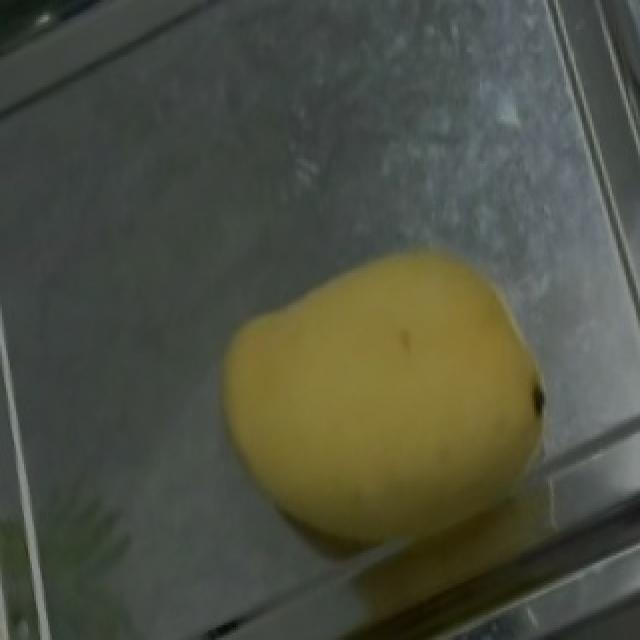fruit: (238, 206, 606, 595)
